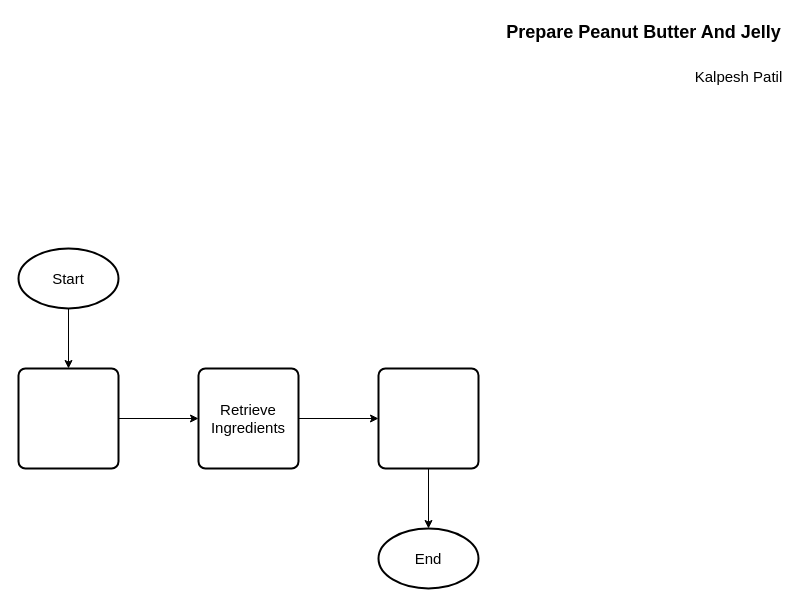
Image size: 805x606. Some labels were removed from this diagram. The centre of each missing label's shape, as x and y in pixels:
"Make Sandwich" belongs at pixel 428 418.
"Retrieve Utensils" belongs at pixel 68 418.
